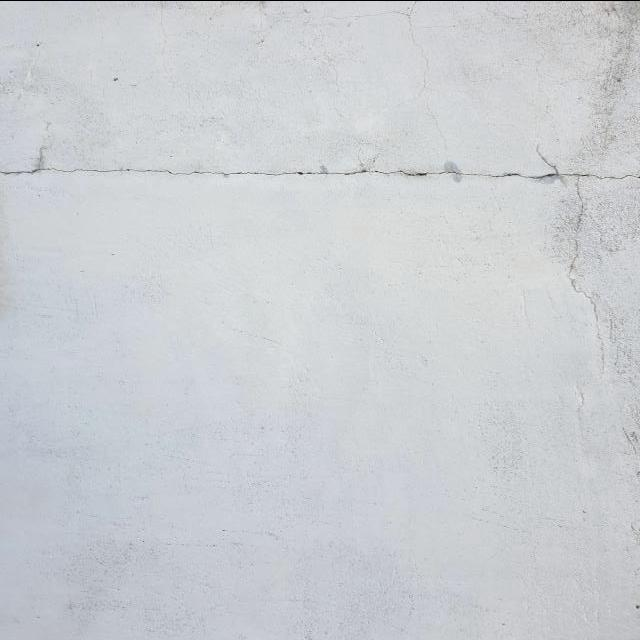SurfaceCrack: (1, 163, 639, 182)
